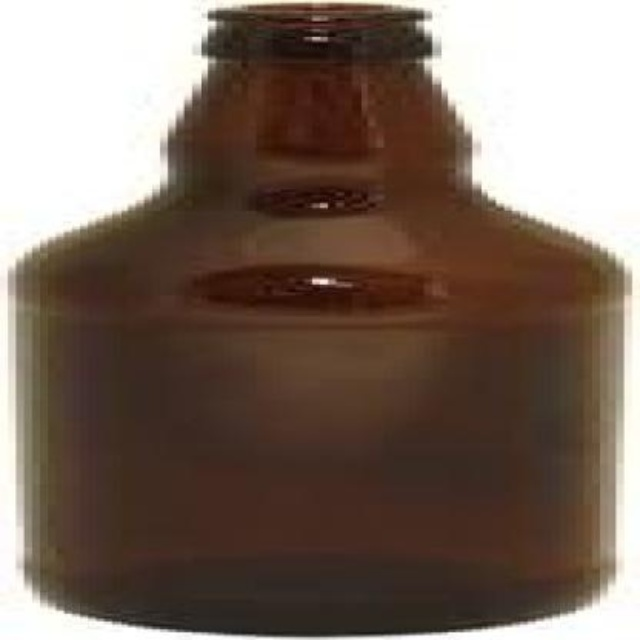trash: (14, 3, 623, 632)
